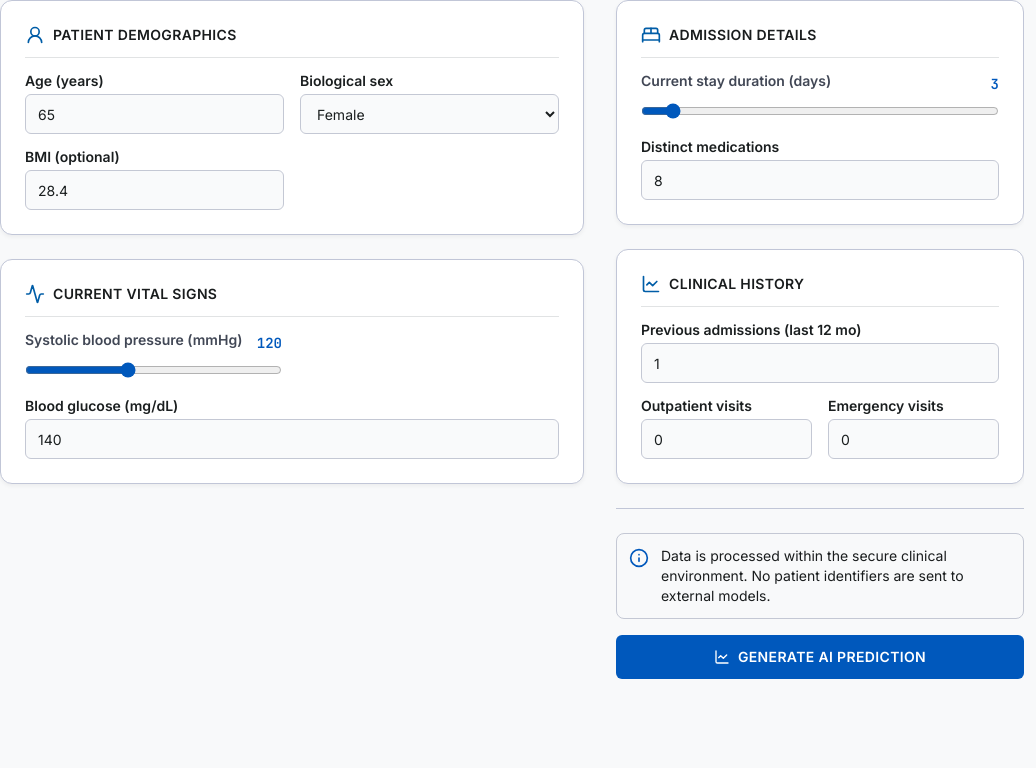
ClinicalEvaluationForm › clears field error after user corrects the value
Clear the number field labelled "Age (years)": (154, 114) [25, 94, 284, 134]
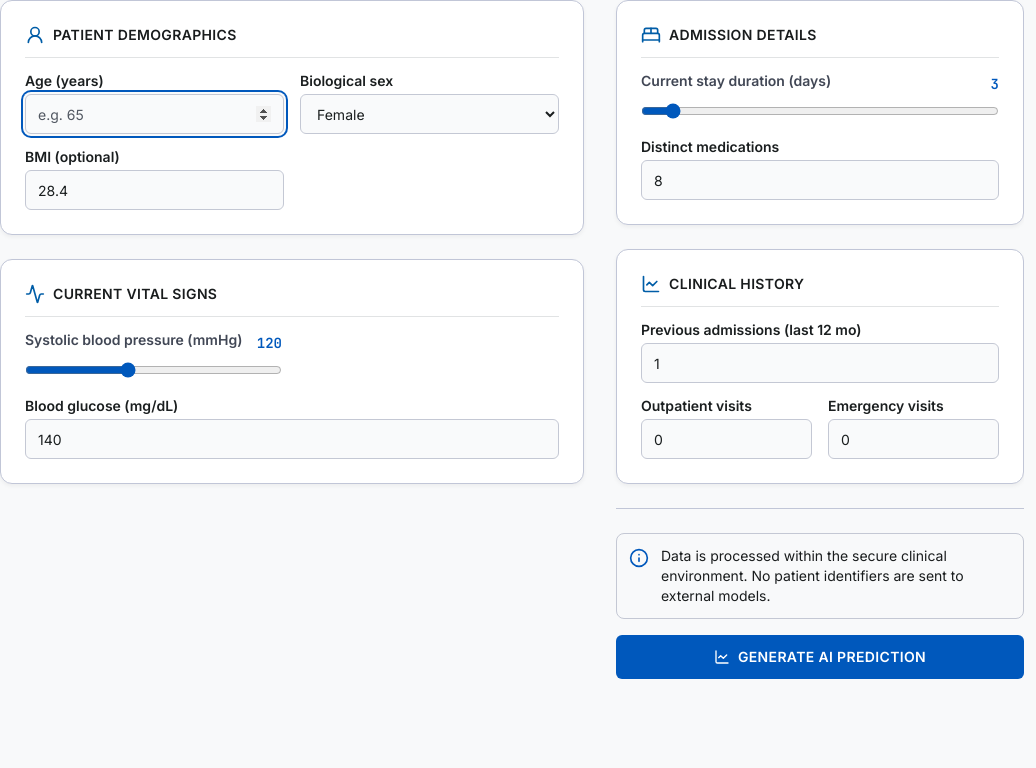
Click the button "Generate AI Prediction": click(820, 657) [616, 635, 1024, 679]
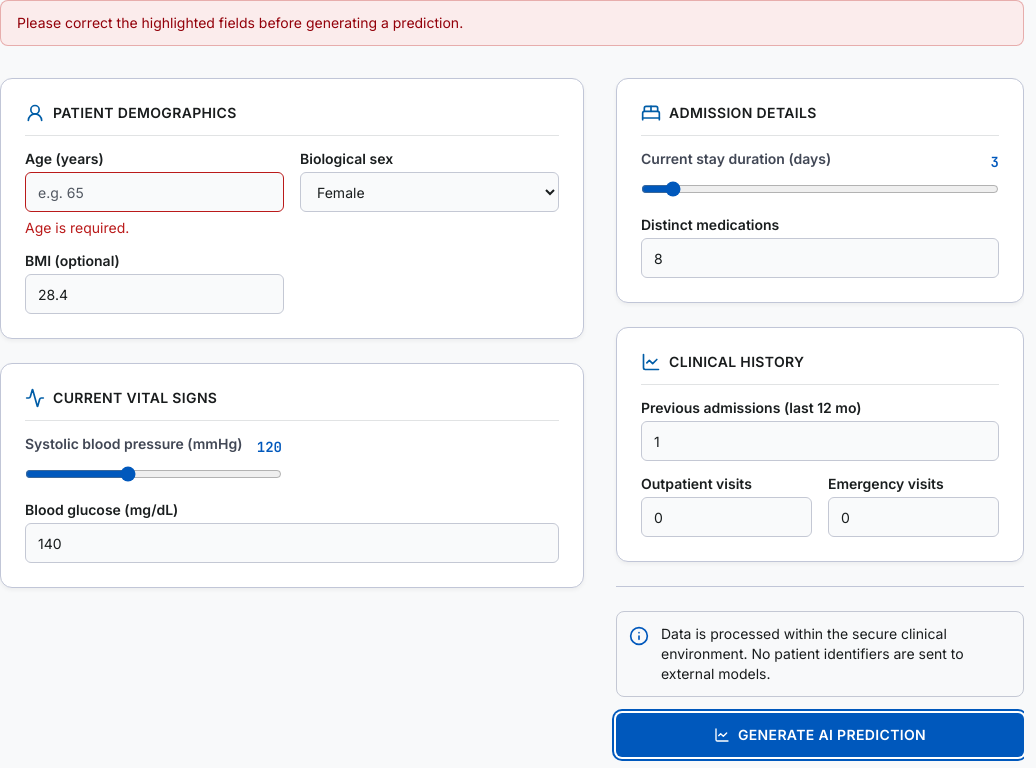
Expected: the text "Age is required." is shown, [25, 219, 129, 236]
In the number field labelled "Age (years)": (154, 192) [25, 172, 284, 212], type "72"
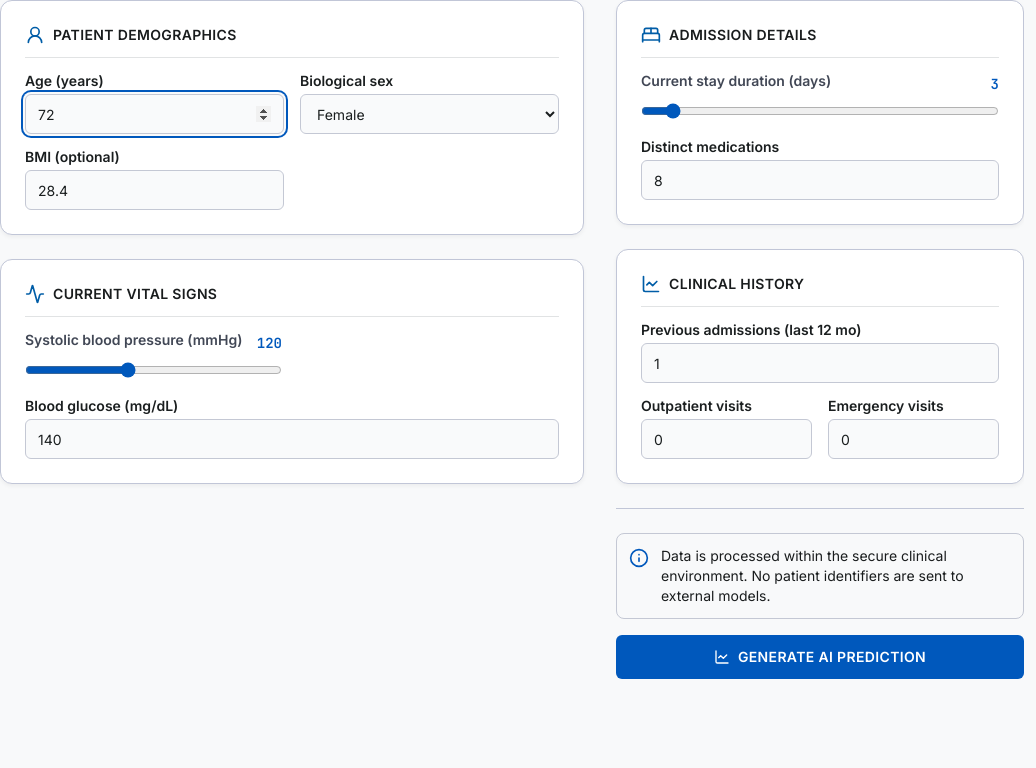
Expected: the text "Age is required" is gone
